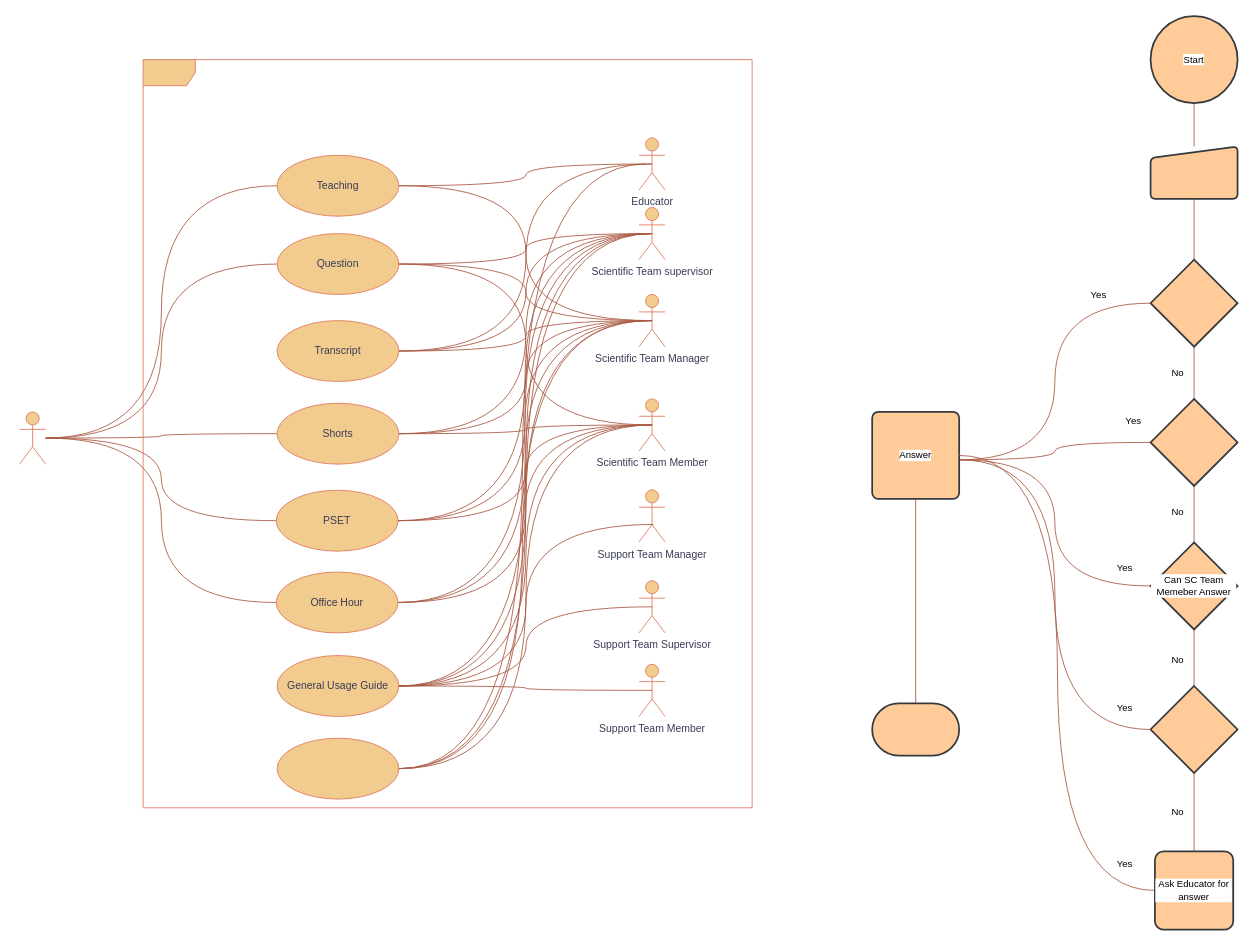
Some shapes in this 1254 by 945 pixel diagram are drawn without their labels. Each missing label, with the box of its shape:
Can SC Team SuperVisor or Manager Answer: (1149, 685, 1238, 773)
Can Support Team Members Answer: (1149, 258, 1238, 347)
Can Support Team Supervisor or Manager Answer: (1149, 398, 1238, 486)
End: (871, 702, 960, 756)
Question from user: (1149, 145, 1238, 199)
SC Team: (142, 59, 752, 808)
Slides: (276, 737, 399, 799)
Student: (19, 411, 46, 464)
